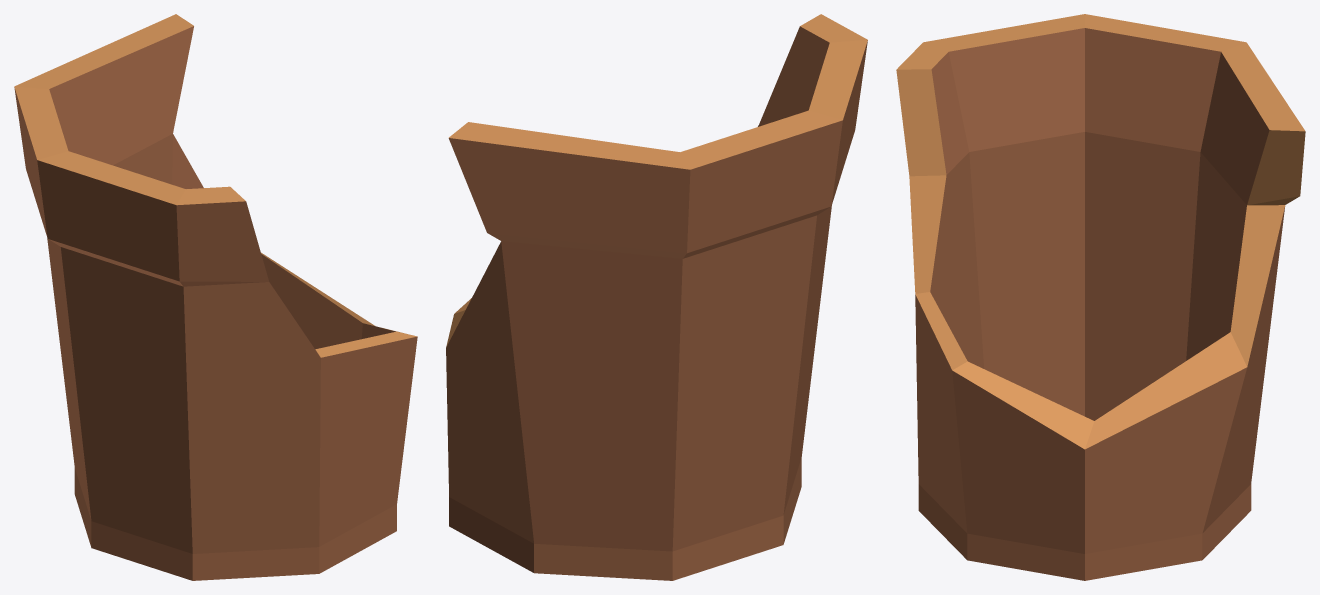
Rendered from SM_Prop_Pot_06.fbx.
The picture shows the model from 3 angles, left to right: view 1: azimuth 30°, elevation 25°; view 2: azimuth 150°, elevation 25°; view 3: azimuth 270°, elevation 25°; orthographic projection. The views are drawn at different scales.
Visible parts, largest first — view 1: SM_Prop_Pot_06; view 2: SM_Prop_Pot_06; view 3: SM_Prop_Pot_06.
Boxes of the visible parts, bbox=[...] form: SM_Prop_Pot_06: bbox=[14, 14, 417, 580]; SM_Prop_Pot_06: bbox=[446, 14, 867, 580]; SM_Prop_Pot_06: bbox=[896, 14, 1305, 580].
Size of the model in its own units: 25.1 by 27.46 by 25.12.
